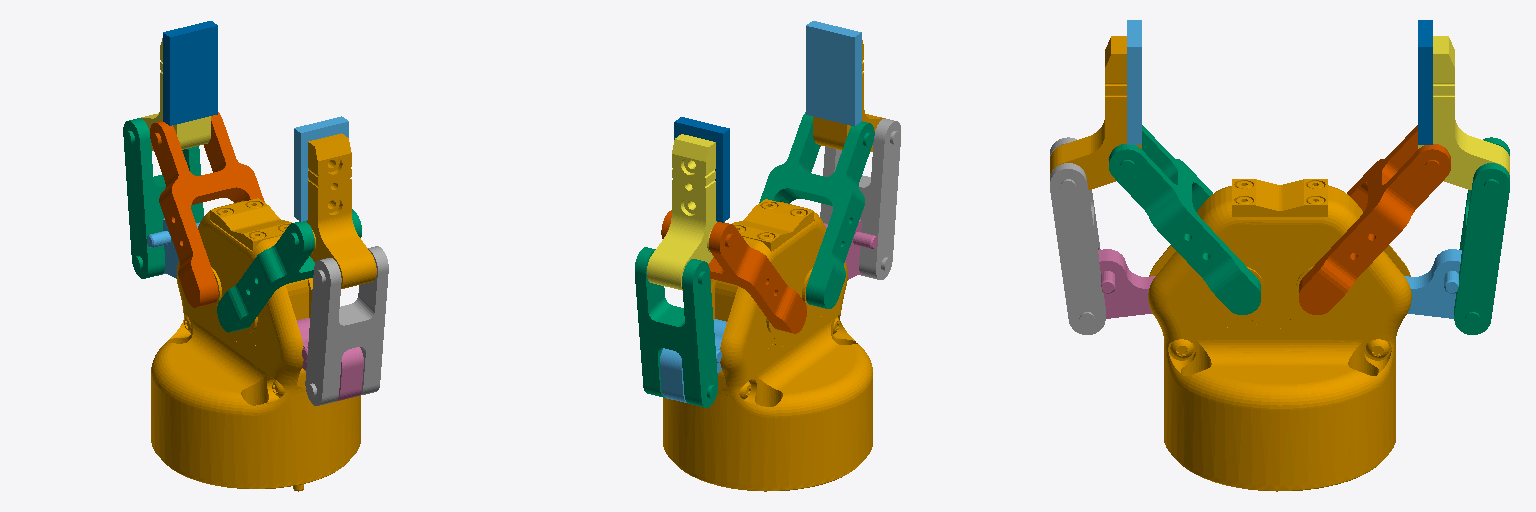
The robot description file, URDF, robot "Robotiq_2F85":
<?xml version="1.0" ?>
<!-- =================================================================================== -->
<!-- |    This document was autogenerated by xacro from 2F85_BuildURDF.xacro           | -->
<!-- |    EDITING THIS FILE BY HAND IS NOT RECOMMENDED                                 | -->
<!-- =================================================================================== -->
<robot name="Robotiq_2F85">
  <!-- On the first day, Darwin created the world -->
  <!-- <link name="world"/> -->
  <!-- base -->
 <!--<joint name="world_gripper_base_joint" type="fixed">
    <origin rpy="0 1.5707963267948966 0" xyz="0 0 0"/>
    <parent link="world"/>
    <child link="gripper_base"/>
  </joint>-->
  <link name="gripper_base">
    <inertial>
      <mass value="0.5"/>
      <origin xyz="0 0 0.0075"/>
      <inertia ixx="0.284375" ixy="0" ixz="0" iyy="0.284375" iyz="0" izz="0.4"/>
    </inertial>
    <visual>
      <origin rpy="0 -1.5708 0" xyz="0 0 0"/>
      <geometry>
        <mesh filename="package://robotiq_2f_model/meshes/2f85/visual/base.obj"/>
      </geometry>
    </visual>
    <collision>
      <geometry>
        <mesh filename="package://robotiq_2f_model/meshes/2f85/collision/base.stl" scale="0.001 0.001 0.001"/>
      </geometry>
    </collision>
  </link>
  <!-- right finger -->
  <joint name="gripper_right_driver_joint" type="revolute">
    <origin rpy="0 0 0" xyz="0 0.0306011 0.054904"/>
    <parent link="gripper_base"/>
    <child link="gripper_right_driver"/>
    <axis xyz="1 0 0"/>
    <limit effort="176" lower="0.0" upper="0.8726644444444445" velocity="1.919861777777778"/>
  </joint>
  <link name="gripper_right_driver">
    <inertial>
      <mass value="0.1"/>
      <origin rpy="0 0 0" xyz="0 0.02 0"/>
      <inertia ixx="0.016666666666666666" ixy="0" ixz="0" iyy="0.006666666666666667" iyz="0" izz="0.016666666666666666"/>
    </inertial>
    <visual>
      <geometry>
        <mesh filename="package://robotiq_2f_model/meshes/2f85/visual/driver.obj" scale="0.001 0.001 0.001"/>
      </geometry>
    </visual>
    <collision>
      <geometry>
        <mesh filename="package://robotiq_2f_model/meshes/2f85/collision/driver.stl" scale="0.001 0.001 0.001"/>
      </geometry>
    </collision>
  </link>
  <joint name="gripper_right_coupler_joint" type="revolute">
    <origin rpy="0 0 0" xyz="0 0.0315 -0.0041"/>
    <parent link="gripper_right_driver"/>
    <child link="gripper_right_coupler"/>
    <axis xyz="1 0 0"/>
    <limit effort="176" lower="-2.9670591111111113" upper="2.9670591111111113" velocity="1.919861777777778"/>
  </joint>
  <link name="gripper_right_coupler">
    <inertial>
      <mass value="0.1"/>
      <origin rpy="-1.7 0 0" xyz="0 0.0 0.025"/>
      <inertia ixx="0.038541666666666675" ixy="0" ixz="0" iyy="0.010833333333333334" iyz="0" izz="0.04270833333333334"/>
    </inertial>
    <visual>
      <geometry>
        <mesh filename="package://robotiq_2f_model/meshes/2f85/visual/coupler.obj" scale="0.001 0.001 0.001"/>
      </geometry>
    </visual>
    <collision>
      <geometry>
        <mesh filename="package://robotiq_2f_model/meshes/2f85/collision/coupler.stl" scale="0.001 0.001 0.001"/>
      </geometry>
    </collision>
  </link>
  <joint name="gripper_right_follower_joint" type="revolute">
    <origin rpy="0 0 0" xyz="0 0.0061 0.0471"/>
    <parent link="gripper_right_coupler"/>
    <child link="gripper_right_follower"/>
    <axis xyz="1 0 0"/>
    <limit effort="176" lower="-2.9670591111111113" upper="2.9670591111111113" velocity="1.919861777777778"/>
  </joint>
  <link name="gripper_right_follower">
    <inertial>
      <mass value="0.1"/>
      <origin xyz="0 -0.018 0.022"/>
      <inertia ixx="0.021075" ixy="0" ixz="0" iyy="0.022533333333333336" iyz="0" izz="0.005208333333333333"/>
    </inertial>
    <visual>
      <geometry>
        <mesh filename="package://robotiq_2f_model/meshes/2f85/visual/follower.obj" scale="0.001 0.001 0.001"/>
      </geometry>
    </visual>
    <collision>
      <geometry>
        <mesh filename="package://robotiq_2f_model/meshes/2f85/collision/follower.stl" scale="0.001 0.001 0.001"/>
      </geometry>
    </collision>
  </link>
  <joint name="gripper_right_pad_joint" type="fixed">
    <parent link="gripper_right_follower"/>
    <child link="gripper_right_pad"/>
  </joint>
  <link name="gripper_right_pad">
    <inertial>
      <mass value="0.1"/>
      <origin xyz="0 -0.022 0.031"/>
      <inertia ixx="0.011333333333333332" ixy="0" ixz="0" iyy="0.014133333333333331" iyz="0" izz="0.0038666666666666663"/>
    </inertial>
    <visual>
      <geometry>
        <mesh filename="package://robotiq_2f_model/meshes/2f85/visual/pad.obj" scale="0.001 0.001 0.001"/>
      </geometry>
    </visual>
    <collision>
      <geometry>
        <mesh filename="package://robotiq_2f_model/meshes/2f85/collision/pad.stl" scale="0.001 0.001 0.001"/>
      </geometry>
    </collision>
  </link>
  <joint name="gripper_right_spring_link_joint" type="revolute">
    <origin rpy="0 0 0" xyz="0 0.012 0.0614"/>
    <parent link="gripper_base"/>
    <child link="gripper_right_spring_link"/>
    <axis xyz="1 0 0"/>
    <limit effort="176" lower="-2.9670591111111113" upper="2.9670591111111113" velocity="1.919861777777778"/>
  </joint>
  <link name="gripper_right_spring_link">
    <inertial>
      <mass value="0.1"/>
      <origin rpy="-0.7068 0 0" xyz="0 0.018 0.018"/>
      <inertia ixx="0.038541666666666675" ixy="0" ixz="0" iyy="0.04854166666666667" iyz="0" izz="0.016666666666666666"/>
    </inertial>
    <visual>
      <geometry>
        <mesh filename="package://robotiq_2f_model/meshes/2f85/visual/spring_link.obj" scale="0.001 0.001 0.001"/>
      </geometry>
    </visual>
    <collision>
      <geometry>
        <mesh filename="package://robotiq_2f_model/meshes/2f85/collision/spring_link.stl" scale="0.001 0.001 0.001"/>
      </geometry>
    </collision>
  </link>
  <!-- left finger -->
  <joint name="gripper_left_driver_joint" type="revolute">
    <origin rpy="0 0 3.141592653589793" xyz="0 -0.0306011 0.054904"/>
    <parent link="gripper_base"/>
    <child link="gripper_left_driver"/>
    <axis xyz="1 0 0"/>
    <limit effort="176" lower="0.0" upper="0.8726644444444445" velocity="1.919861777777778"/>
  </joint>
  <link name="gripper_left_driver">
    <inertial>
      <mass value="0.1"/>
      <origin rpy="0 0 0" xyz="0 0.02 0"/>
      <inertia ixx="0.016666666666666666" ixy="0" ixz="0" iyy="0.006666666666666667" iyz="0" izz="0.016666666666666666"/>
    </inertial>
    <visual>
      <geometry>
        <mesh filename="package://robotiq_2f_model/meshes/2f85/visual/driver.obj" scale="0.001 0.001 0.001"/>
      </geometry>
    </visual>
    <collision>
      <geometry>
        <mesh filename="package://robotiq_2f_model/meshes/2f85/collision/driver.stl" scale="0.001 0.001 0.001"/>
      </geometry>
    </collision>
  </link>
  <joint name="gripper_left_coupler_joint" type="revolute">
    <origin rpy="0 0 0" xyz="0 0.0315 -0.0041"/>
    <parent link="gripper_left_driver"/>
    <child link="gripper_left_coupler"/>
    <axis xyz="1 0 0"/>
    <limit effort="176" lower="-2.9670591111111113" upper="2.9670591111111113" velocity="1.919861777777778"/>
  </joint>
  <link name="gripper_left_coupler">
    <inertial>
      <mass value="0.1"/>
      <origin rpy="-1.7 0 0" xyz="0 0.0 0.025"/>
      <inertia ixx="0.038541666666666675" ixy="0" ixz="0" iyy="0.010833333333333334" iyz="0" izz="0.04270833333333334"/>
    </inertial>
    <visual>
      <geometry>
        <mesh filename="package://robotiq_2f_model/meshes/2f85/visual/coupler.obj" scale="0.001 0.001 0.001"/>
      </geometry>
    </visual>
    <collision>
      <geometry>
        <mesh filename="package://robotiq_2f_model/meshes/2f85/collision/coupler.stl" scale="0.001 0.001 0.001"/>
      </geometry>
    </collision>
  </link>
  <joint name="gripper_left_follower_joint" type="revolute">
    <origin rpy="0 0 0" xyz="0 0.0061 0.0471"/>
    <parent link="gripper_left_coupler"/>
    <child link="gripper_left_follower"/>
    <axis xyz="1 0 0"/>
    <limit effort="176" lower="-2.9670591111111113" upper="2.9670591111111113" velocity="1.919861777777778"/>
  </joint>
  <link name="gripper_left_follower">
    <inertial>
      <mass value="0.1"/>
      <origin xyz="0 -0.018 0.022"/>
      <inertia ixx="0.021075" ixy="0" ixz="0" iyy="0.022533333333333336" iyz="0" izz="0.005208333333333333"/>
    </inertial>
    <visual>
      <geometry>
        <mesh filename="package://robotiq_2f_model/meshes/2f85/visual/follower.obj" scale="0.001 0.001 0.001"/>
      </geometry>
    </visual>
    <collision>
      <geometry>
        <mesh filename="package://robotiq_2f_model/meshes/2f85/collision/follower.stl" scale="0.001 0.001 0.001"/>
      </geometry>
    </collision>
  </link>
  <joint name="gripper_left_pad_joint" type="fixed">
    <parent link="gripper_left_follower"/>
    <child link="gripper_left_pad"/>
  </joint>
  <link name="gripper_left_pad">
    <inertial>
      <mass value="0.1"/>
      <origin xyz="0 -0.022 0.031"/>
      <inertia ixx="0.011333333333333332" ixy="0" ixz="0" iyy="0.014133333333333331" iyz="0" izz="0.0038666666666666663"/>
    </inertial>
    <visual>
      <geometry>
        <mesh filename="package://robotiq_2f_model/meshes/2f85/visual/pad.obj" scale="0.001 0.001 0.001"/>
      </geometry>
    </visual>
    <collision>
      <geometry>
        <mesh filename="package://robotiq_2f_model/meshes/2f85/collision/pad.stl" scale="0.001 0.001 0.001"/>
      </geometry>
    </collision>
  </link>
  <joint name="gripper_left_spring_link_joint" type="revolute">
    <origin rpy="0 0 3.141592653589793" xyz="0 -0.012 0.0614"/>
    <parent link="gripper_base"/>
    <child link="gripper_left_spring_link"/>
    <axis xyz="1 0 0"/>
    <limit effort="176" lower="-2.9670591111111113" upper="2.9670591111111113" velocity="1.919861777777778"/>
  </joint>
  <link name="gripper_left_spring_link">
    <inertial>
      <mass value="0.1"/>
      <origin rpy="-0.7068 0 0" xyz="0 0.018 0.018"/>
      <inertia ixx="0.038541666666666675" ixy="0" ixz="0" iyy="0.04854166666666667" iyz="0" izz="0.016666666666666666"/>
    </inertial>
    <visual>
      <geometry>
        <mesh filename="package://robotiq_2f_model/meshes/2f85/visual/spring_link.obj" scale="0.001 0.001 0.001"/>
      </geometry>
    </visual>
    <collision>
      <geometry>
        <mesh filename="package://robotiq_2f_model/meshes/2f85/collision/spring_link.stl" scale="0.001 0.001 0.001"/>
      </geometry>
    </collision>
  </link>
</robot>

--- Facts derived from the render (not from the file) ---
Views: 3 orthographic renders of the robot side by side, from view 1: azimuth 30°, elevation 25°; view 2: azimuth 150°, elevation 25°; view 3: azimuth 270°, elevation 25°.
Model Robotiq_2F85 with 11 links and 10 joints (8 revolute, 2 fixed), rooted at gripper_base, posed every joint at zero.
Links seen in each view (by area): view 1: gripper_base, gripper_right_spring_link, gripper_left_coupler, gripper_left_follower, gripper_right_coupler, gripper_right_pad, gripper_left_spring_link, gripper_left_pad, gripper_left_driver, gripper_right_follower, gripper_right_driver; view 2: gripper_base, gripper_left_spring_link, gripper_right_coupler, gripper_right_follower, gripper_left_pad, gripper_left_coupler, gripper_right_spring_link, gripper_right_pad, gripper_right_driver, gripper_left_follower, gripper_left_driver; view 3: gripper_base, gripper_right_spring_link, gripper_left_spring_link, gripper_right_coupler, gripper_left_coupler, gripper_right_follower, gripper_left_follower, gripper_right_driver, gripper_left_driver, gripper_right_pad, gripper_left_pad.
Boxes of the visible links, x1,y1,x2,y2 form: gripper_base: (151,198,360,491); gripper_right_spring_link: (150,112,264,307); gripper_left_coupler: (305,246,388,405); gripper_left_follower: (306,133,376,288); gripper_right_coupler: (123,118,203,278); gripper_right_pad: (163,21,217,125); gripper_left_spring_link: (217,209,361,332); gripper_left_pad: (294,116,348,221); gripper_left_driver: (297,318,363,401); gripper_right_follower: (141,38,210,150); gripper_right_driver: (147,218,199,278); gripper_base: (663,199,872,491); gripper_left_spring_link: (759,112,874,308); gripper_right_coupler: (635,247,717,407); gripper_right_follower: (647,134,716,290); gripper_left_pad: (806,21,861,126); gripper_left_coupler: (820,118,900,279); gripper_right_spring_link: (661,210,806,333); gripper_right_pad: (674,117,729,222); gripper_right_driver: (660,319,726,402); gripper_left_follower: (813,40,884,151); gripper_left_driver: (824,219,877,279); gripper_base: (1148,179,1411,491); gripper_right_spring_link: (1299,125,1450,314); gripper_left_spring_link: (1109,125,1260,314); gripper_right_coupler: (1454,137,1509,334); gripper_left_coupler: (1050,137,1105,334); gripper_right_follower: (1418,36,1509,189); gripper_left_follower: (1050,36,1141,189); gripper_right_driver: (1404,249,1461,318); gripper_left_driver: (1098,249,1155,318); gripper_right_pad: (1418,20,1432,144); gripper_left_pad: (1127,20,1141,144).
Size in the robot's own frame: 0.075 by 0.1484 by 0.1504 metres.
Meshes: 6 distinct files referenced, 11 mesh visuals loaded (6 OBJ).